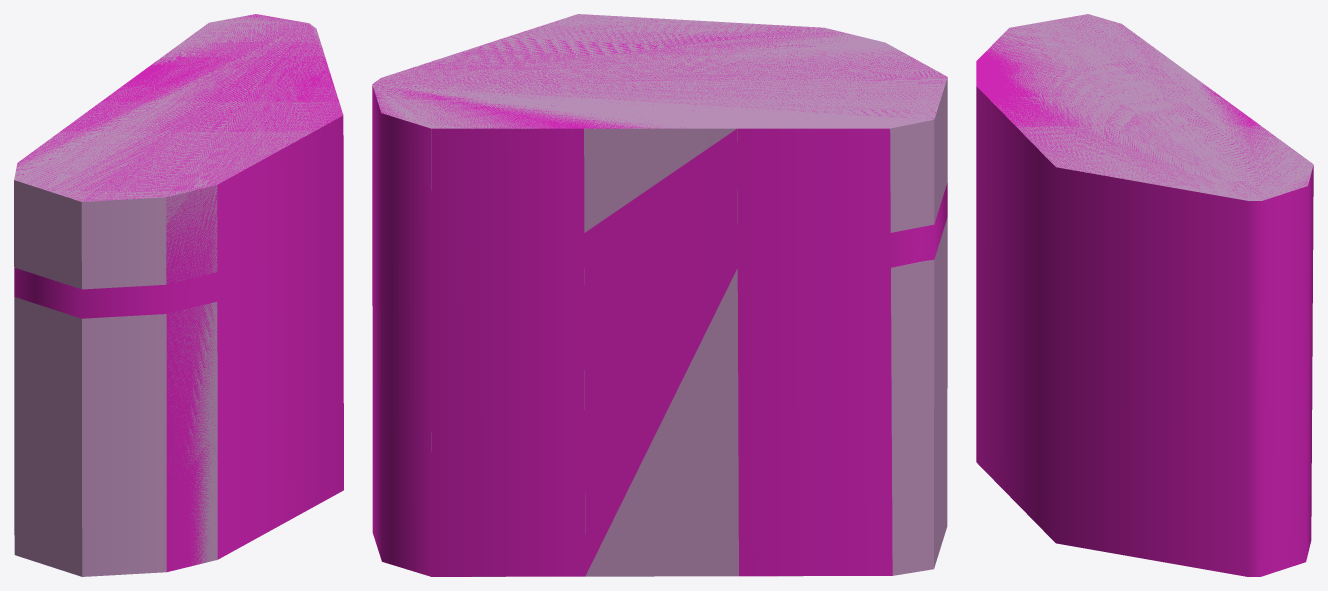
File: building7.fbx
3 views of the same model, side by side, from view 1: azimuth 30°, elevation 25°; view 2: azimuth 150°, elevation 25°; view 3: azimuth 270°, elevation 25° (orthographic). The views are drawn at different scales.
Visible parts, largest first — view 1: building7_COL, building7_MESH; view 2: building7_COL, building7_MESH; view 3: building7_COL, building7_MESH.
Boxes of the visible parts, x1,y1,x2,y2 form: building7_COL: [14, 14, 343, 571]; building7_MESH: [14, 14, 342, 576]; building7_COL: [372, 14, 947, 576]; building7_MESH: [372, 14, 947, 576]; building7_COL: [976, 14, 1313, 576]; building7_MESH: [986, 14, 1313, 200].
Size of the model in its own units: 791 by 603 by 742.
